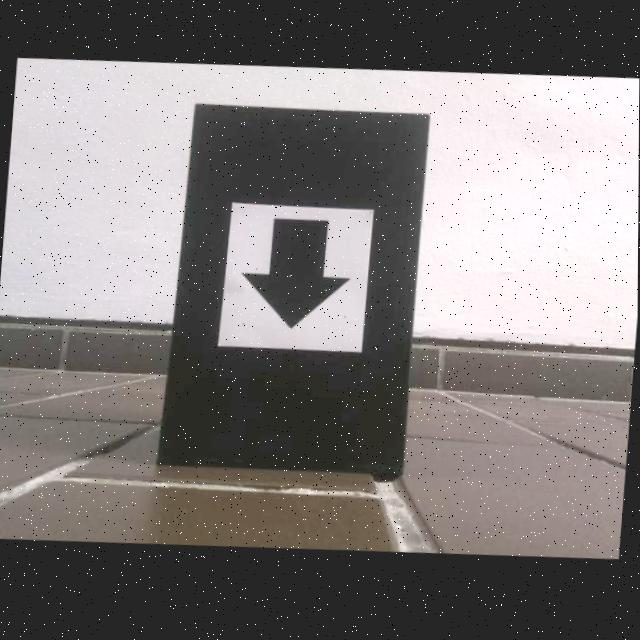DOWN: (240, 221, 351, 333)
